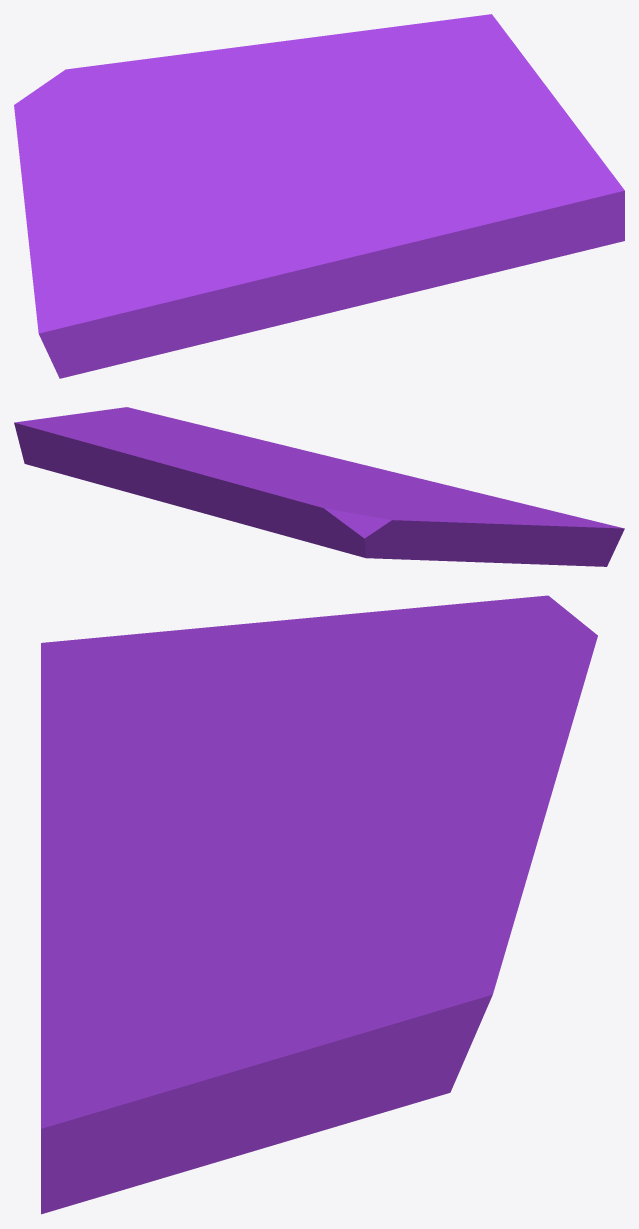
Rendered from Window_142_2_chunks.fbx.
3 renders of one model, top to bottom at view 1: azimuth 30°, elevation 25°; view 2: azimuth 150°, elevation 25°; view 3: azimuth 270°, elevation 25°, orthographic. The views are drawn at different scales.
Visible parts, largest first — view 1: Window_142_2_11, Window_142_2_9, Window_142_2_2, Window_142_2_3, Window_142_2_10, Window_142_2_0, Window_142_2_13, Window_142_2_1, Window_142_2_4, Window_142_2_14, Window_142_2_12, Window_142_2_15; view 2: Window_142_2_11, Window_142_2_3, Window_142_2_0, Window_142_2_4, Window_142_2_7, Window_142_2_10, Window_142_2_9, Window_142_2_2, Window_142_2_14, Window_142_2_5, Window_142_2_13, Window_142_2_12 (+3 smaller); view 3: Window_142_2_11, Window_142_2_3, Window_142_2_9, Window_142_2_2, Window_142_2_10, Window_142_2_13, Window_142_2_1, Window_142_2_4, Window_142_2_14, Window_142_2_0, Window_142_2_12, Window_142_2_15.
Part boxes in pixels (x1=…): Window_142_2_11: x1=407, y1=14, x2=624, y2=264; Window_142_2_9: x1=266, y1=140, x2=526, y2=310; Window_142_2_2: x1=134, y1=188, x2=344, y2=352; Window_142_2_3: x1=15, y1=114, x2=189, y2=277; Window_142_2_10: x1=274, y1=23, x2=424, y2=151; Window_142_2_0: x1=32, y1=269, x2=165, y2=378; Window_142_2_13: x1=119, y1=75, x2=278, y2=161; Window_142_2_1: x1=90, y1=123, x2=286, y2=198; Window_142_2_4: x1=14, y1=60, x2=142, y2=124; Window_142_2_14: x1=149, y1=34, x2=333, y2=92; Window_142_2_12: x1=264, y1=30, x2=364, y2=144; Window_142_2_15: x1=234, y1=83, x2=267, y2=120; Window_142_2_11: x1=14, y1=407, x2=214, y2=482; Window_142_2_3: x1=367, y1=491, x2=567, y2=559; Window_142_2_0: x1=402, y1=504, x2=624, y2=566; Window_142_2_4: x1=270, y1=493, x2=401, y2=558; Window_142_2_7: x1=149, y1=478, x2=293, y2=532; Window_142_2_10: x1=63, y1=436, x2=288, y2=486; Window_142_2_9: x1=201, y1=428, x2=364, y2=474; Window_142_2_2: x1=323, y1=465, x2=542, y2=508; Window_142_2_14: x1=129, y1=454, x2=280, y2=492; Window_142_2_5: x1=272, y1=497, x2=367, y2=558; Window_142_2_13: x1=251, y1=471, x2=352, y2=500; Window_142_2_12: x1=106, y1=448, x2=279, y2=479; Window_142_2_11: x1=41, y1=936, x2=509, y2=1214; Window_142_2_3: x1=125, y1=597, x2=527, y2=756; Window_142_2_9: x1=41, y1=817, x2=310, y2=1042; Window_142_2_2: x1=41, y1=722, x2=251, y2=896; Window_142_2_10: x1=264, y1=823, x2=523, y2=937; Window_142_2_13: x1=292, y1=688, x2=540, y2=826; Window_142_2_1: x1=223, y1=662, x2=469, y2=838; Window_142_2_4: x1=455, y1=595, x2=597, y2=703; Window_142_2_14: x1=458, y1=708, x2=574, y2=860; Window_142_2_0: x1=41, y1=631, x2=164, y2=725; Window_142_2_12: x1=322, y1=810, x2=531, y2=887; Window_142_2_15: x1=383, y1=782, x2=461, y2=811.
Size of the model in its own units: 1222 by 294 by 592.
